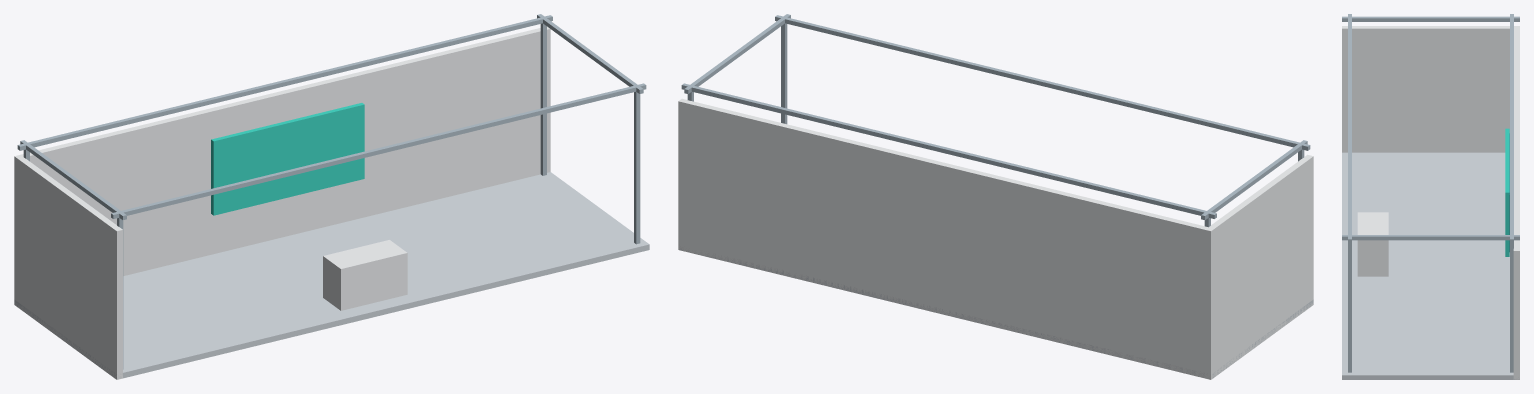
3 renders of one model, left to right at view 1: azimuth 30°, elevation 25°; view 2: azimuth 150°, elevation 25°; view 3: azimuth 270°, elevation 25°, orthographic. The views are drawn at different scales.
Parts seen in each view (by area): view 1: Exhibition Booth Concept; view 2: Exhibition Booth Concept; view 3: Exhibition Booth Concept.
Boxes of the visible parts, <box> form: Exhibition Booth Concept: <box>14,14,649,379</box>; Exhibition Booth Concept: <box>678,14,1313,379</box>; Exhibition Booth Concept: <box>1342,14,1519,379</box>.
Bounding box in the file's own units: 12 × 3.49 × 4.
